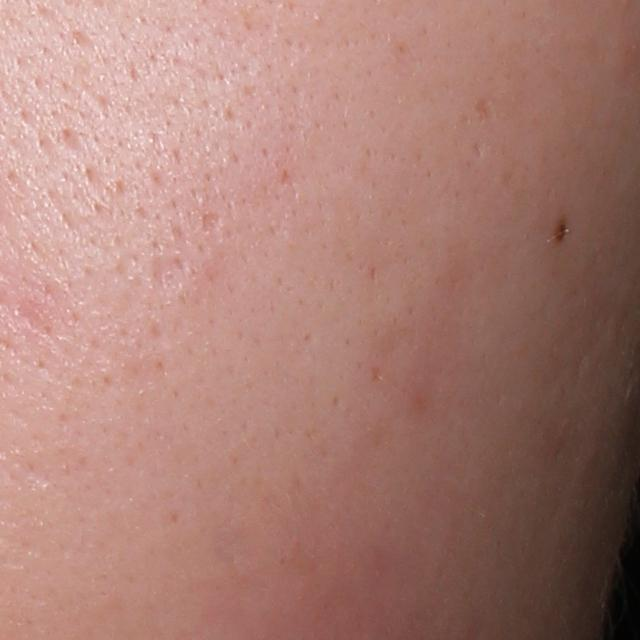atrophic_scar: (148, 251, 186, 297), (472, 97, 496, 128), (197, 212, 219, 234)
nevus: (547, 216, 568, 250)
